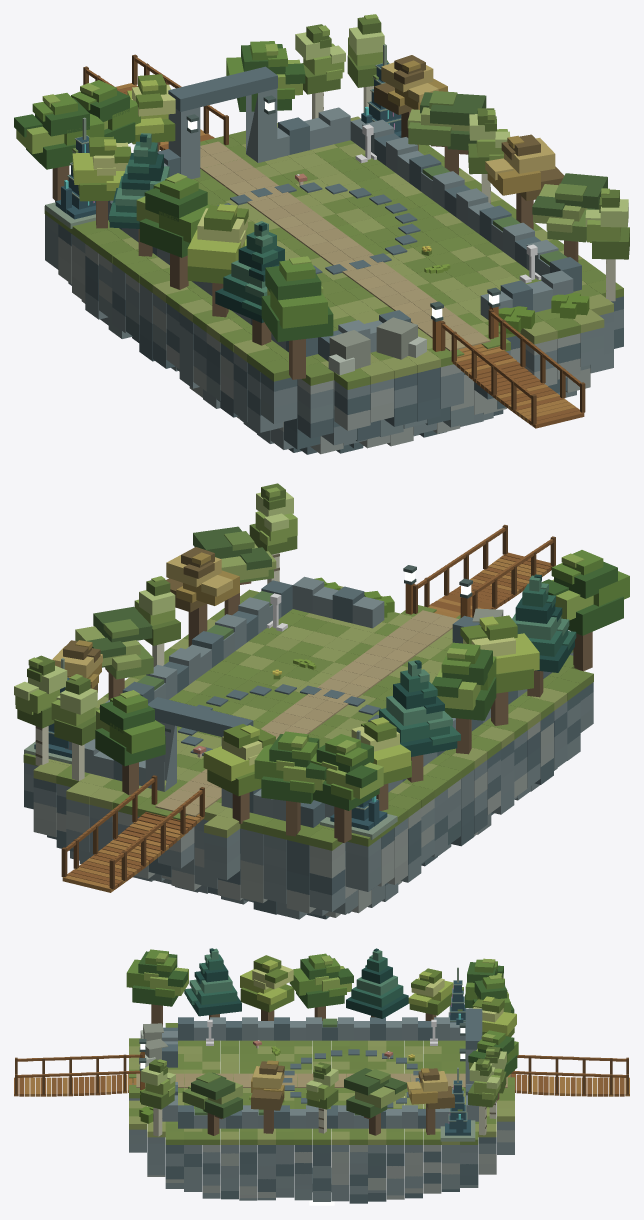
The model's file is room_boss_purified.glb.
3 renders of one model, top to bottom at view 1: azimuth 30°, elevation 25°; view 2: azimuth 150°, elevation 25°; view 3: azimuth 270°, elevation 25°, orthographic. The views are drawn at different scales.
Visible parts, largest first — view 1: room_boss_blocks, tree0_(0, 0).001, tree0_(0, 0).002, tree0_(0, 0).003, tree4_(0, 0).001, tree2_(0, 0).001, tree5_(0, 0).001, tree3_(0, 0).002, tree3_(0, 0).001, tree4_(0, 0).002, tree2_(0, 0).002, tree1_(0, 0).001 (+13 smaller); view 2: room_boss_blocks, tree0_(0, 0).001, tree2_(0, 0).002, tree0_(0, 0).005, tree0_(0, 0).003, tree0_(0, 0).002, tree0_(0, 0).004, tree4_(0, 0).001, tree3_(0, 0).002, tree5_(0, 0).001, tree2_(0, 0).001, tree4_(0, 0).003 (+9 smaller); view 3: room_boss_blocks, tree0_(0, 0).001, tree0_(0, 0).002, tree2_(0, 0).002, tree4_(0, 0).001, tree2_(0, 0).001, tree3_(0, 0).002, tree3_(0, 0).001, tree5_(0, 0).001, tree5_(0, 0).002, tree1_(0, 0).001, tree4_(0, 0).002 (+10 smaller).
Part boxes in pixels (box(x1,y1,x2,y2)): room_boss_blocks: box(44, 54, 623, 454); tree0_(0, 0).001: box(261, 256, 333, 379); tree0_(0, 0).002: box(136, 173, 210, 289); tree0_(0, 0).003: box(14, 93, 104, 200); tree4_(0, 0).001: box(187, 204, 248, 317); tree2_(0, 0).001: box(215, 221, 285, 345); tree5_(0, 0).001: box(485, 134, 564, 229); tree3_(0, 0).002: box(407, 91, 486, 174); tree3_(0, 0).001: box(532, 173, 607, 262); tree4_(0, 0).002: box(72, 136, 131, 228); tree2_(0, 0).002: box(109, 133, 169, 256); tree1_(0, 0).001: box(585, 188, 629, 301); room_boss_blocks: box(23, 524, 593, 919); tree0_(0, 0).001: box(541, 550, 629, 671); tree2_(0, 0).002: box(379, 660, 460, 782); tree0_(0, 0).005: box(95, 690, 165, 795); tree0_(0, 0).003: box(310, 734, 383, 842); tree0_(0, 0).002: box(432, 642, 496, 754); tree0_(0, 0).004: box(254, 731, 326, 836); tree4_(0, 0).001: box(460, 615, 539, 725); tree3_(0, 0).002: box(75, 606, 153, 699); tree5_(0, 0).001: box(166, 547, 239, 646); tree2_(0, 0).001: box(512, 574, 576, 697); tree4_(0, 0).003: box(203, 724, 275, 823); room_boss_blocks: box(14, 1008, 629, 1205); tree0_(0, 0).001: box(126, 949, 188, 1026); tree0_(0, 0).002: box(289, 953, 353, 1020); tree2_(0, 0).002: box(346, 948, 408, 1018); tree4_(0, 0).001: box(240, 955, 294, 1020); tree2_(0, 0).001: box(184, 948, 241, 1019); tree3_(0, 0).002: box(344, 1068, 406, 1135); tree3_(0, 0).001: box(182, 1072, 242, 1135); tree5_(0, 0).001: box(251, 1060, 284, 1133); tree5_(0, 0).002: box(406, 1068, 454, 1134); tree1_(0, 0).001: box(140, 1059, 175, 1136); tree4_(0, 0).002: box(408, 968, 453, 1020).
Size of the model in its own units: 19.03 by 13.82 by 38.5.
